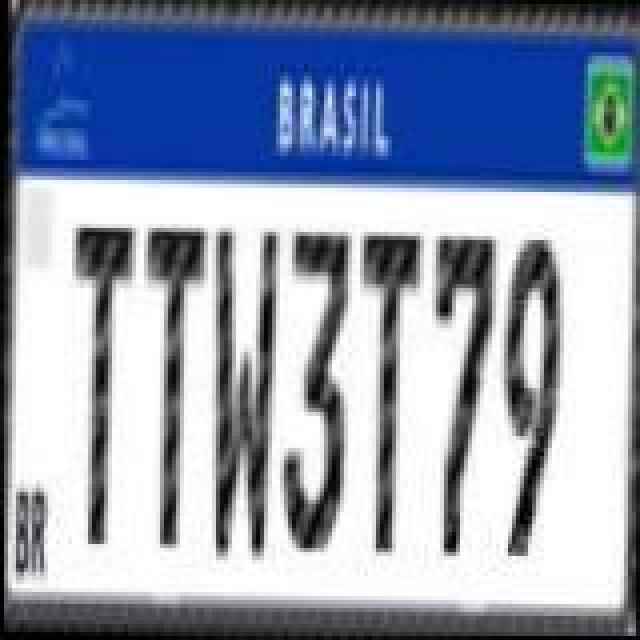3: (274, 226, 350, 554)
7: (418, 228, 494, 556)
9: (490, 230, 566, 562)
T: (64, 222, 136, 554), (132, 222, 204, 550), (350, 228, 418, 556)
W: (202, 222, 278, 562)
